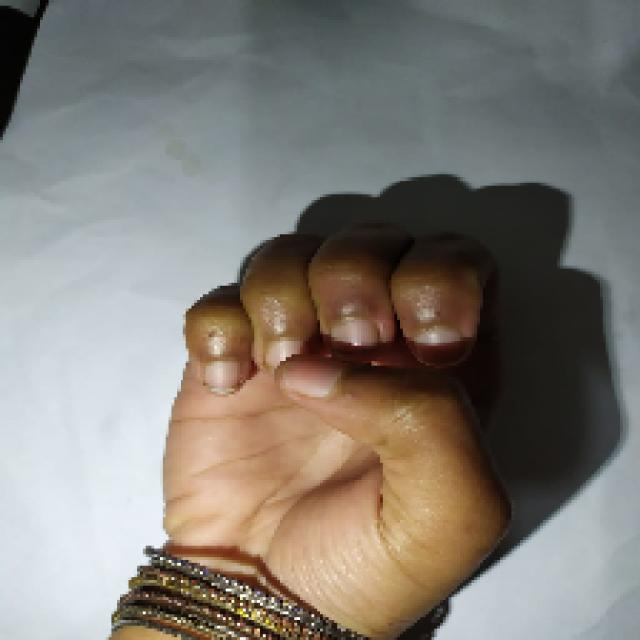Nail: (276, 356, 342, 398), (410, 325, 465, 367), (330, 318, 379, 361), (204, 360, 240, 394), (265, 340, 304, 369)
